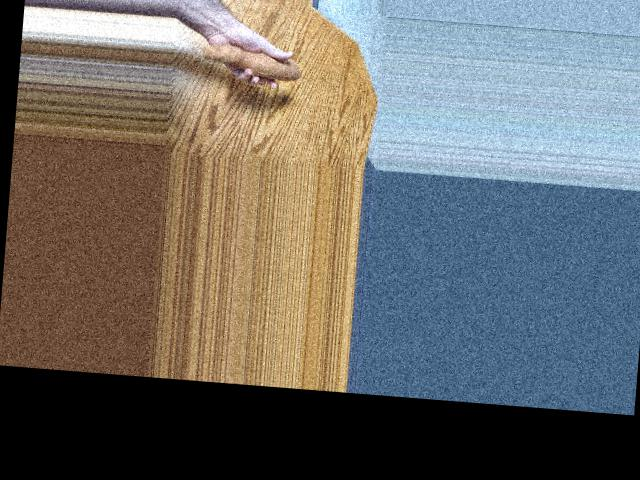sweet_potato: (191, 33, 305, 84)
